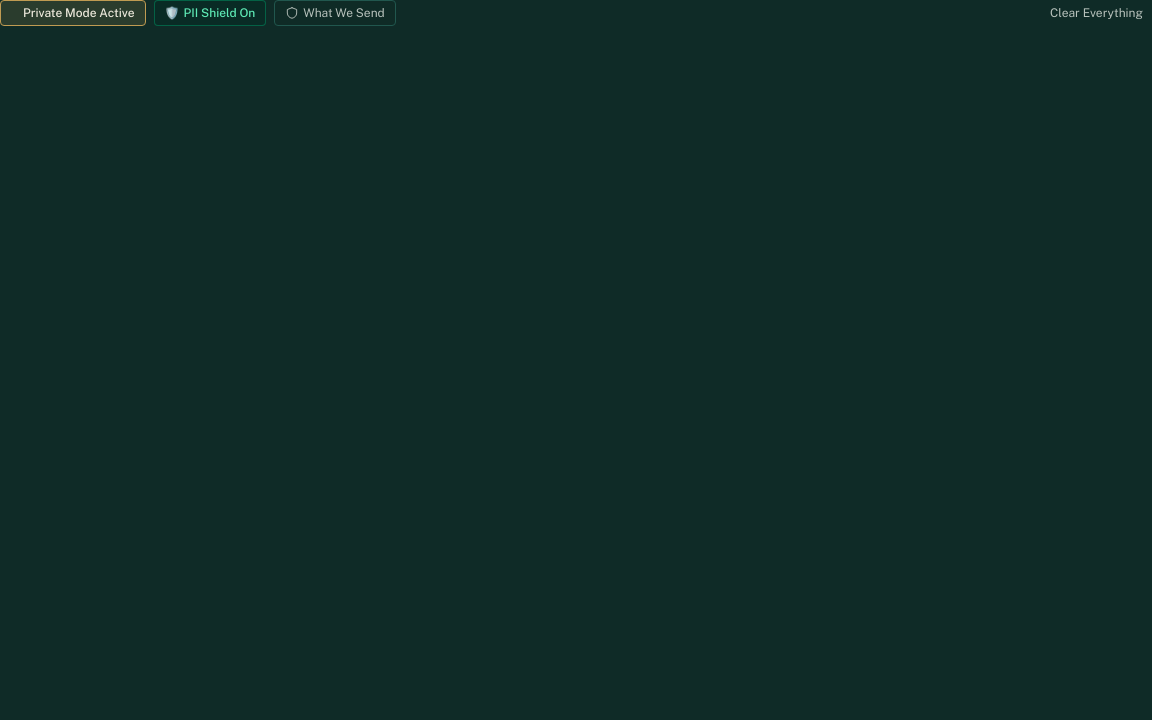
Scenario: PrivacyControls Component › opens 'What We Send' dialog and displays payload details
The width and height of the screenshot is (1152, 720).
Click the button "What We Send": (335, 13) [274,0,396,26]
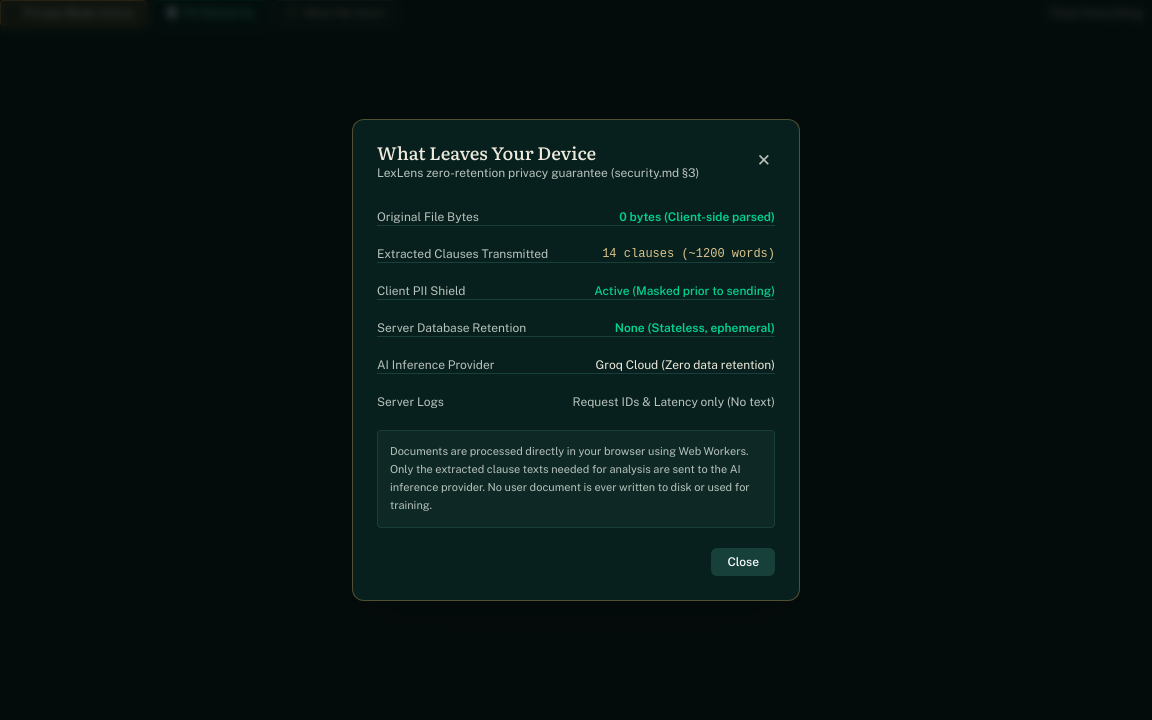
Result: the dialog is shown
Result: the heading "What Leaves Your Device" is shown at [377,139,596,166]
Result: the text "0 bytes (Client-side parsed)" is shown at [619,209,775,225]
Click the button "Close": (743, 562) [712,548,775,576]
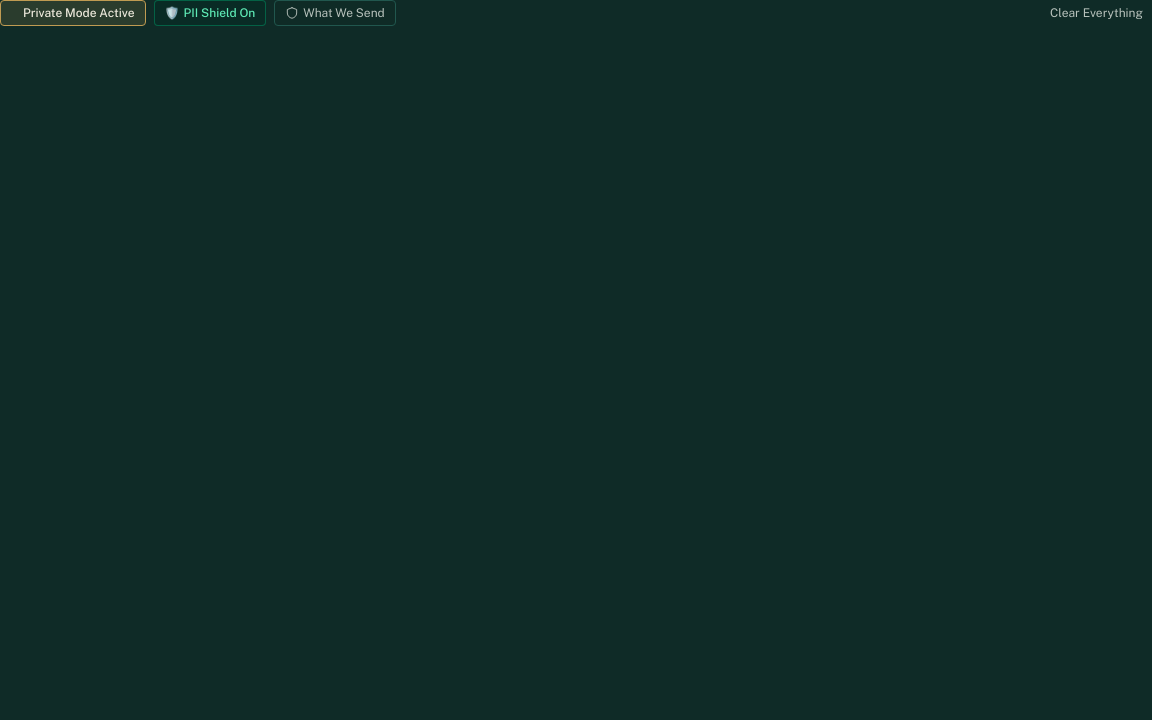
Result: the dialog is gone
